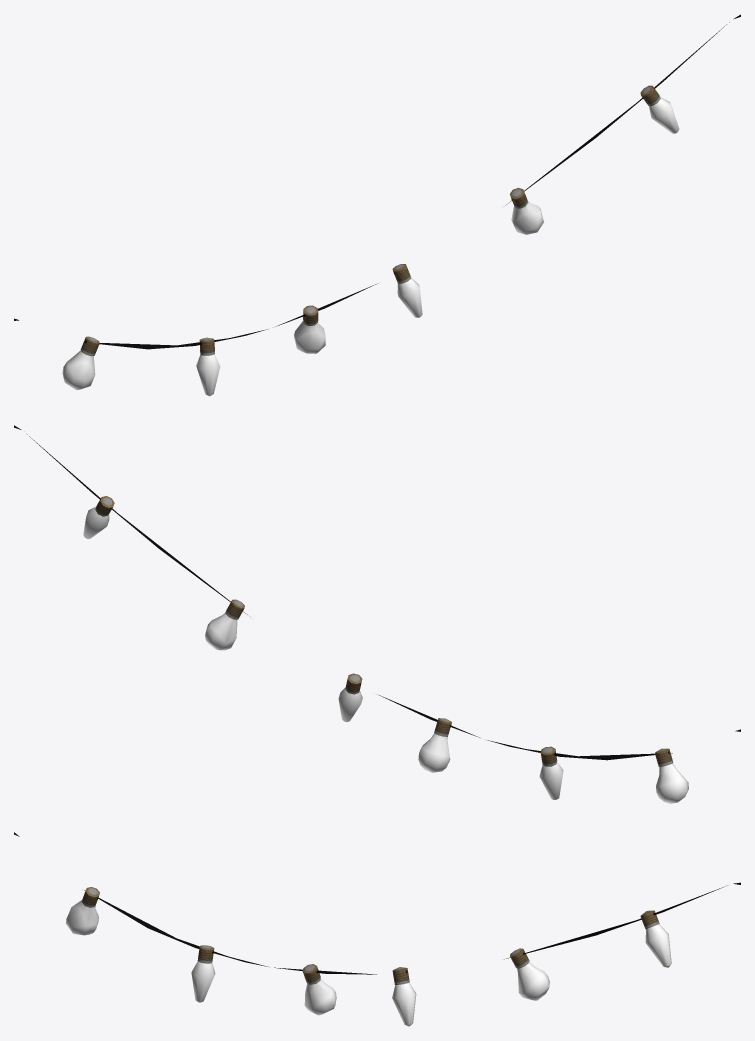
Rendered from string_lights_300_b.glb.
3 views of the same model, one above another, from view 1: azimuth 30°, elevation 25°; view 2: azimuth 150°, elevation 25°; view 3: azimuth 330°, elevation 25° (orthographic).
Visible parts, largest first — view 1: string_lights_300_b; view 2: string_lights_300_b; view 3: string_lights_300_b.
Part boxes in pixels (bbox=[...]): string_lights_300_b: bbox=[14, 14, 740, 396]; string_lights_300_b: bbox=[14, 425, 740, 803]; string_lights_300_b: bbox=[14, 832, 740, 1026].
Bounding box in the file's own units: 3 × 0.9767 × 0.1575.
Materials: 1 (1 with a texture image).
